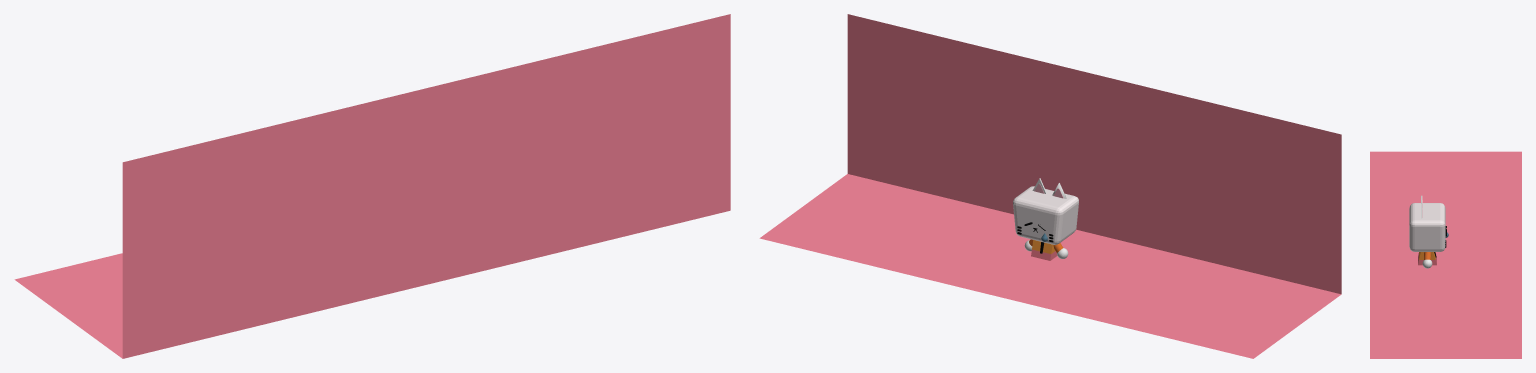
File: michi.glb
3 renders of one model, left to right at view 1: azimuth 30°, elevation 25°; view 2: azimuth 150°, elevation 25°; view 3: azimuth 270°, elevation 25°, orthographic. The views are drawn at different scales.
Visible parts, largest first — view 1: Cubo.006; view 2: Cubo.006, Cubo; view 3: Cubo.006, Cubo.
Boxes of the visible parts, x1,y1,x2,y2 form: Cubo.006: (14, 14, 730, 358); Cubo.006: (759, 14, 1341, 358); Cubo: (1013, 186, 1078, 244); Cubo.006: (1370, 151, 1521, 358); Cubo: (1409, 203, 1445, 251).
Bounding box in the file's own units: 51.23 × 15.84 × 15.84.
